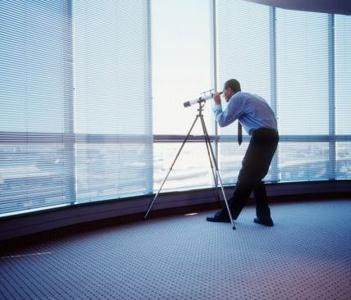person: (208, 80, 280, 229)
